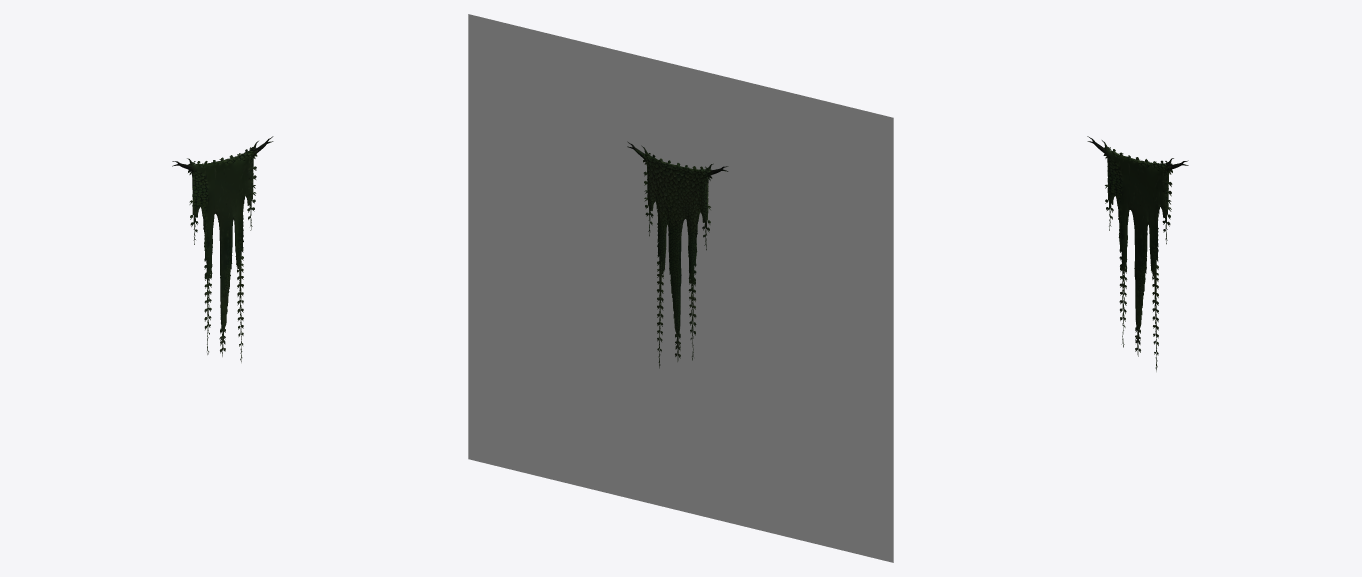
The model's file is wallvines2.glb.
3 views of the same model, side by side, from view 1: azimuth 30°, elevation 25°; view 2: azimuth 150°, elevation 25°; view 3: azimuth 330°, elevation 25° (orthographic).
Parts seen in each view (by area): view 1: node_0; view 2: Plane, node_0; view 3: node_0.
Boxes of the visible parts, x1=… form: node_0: x1=172, y1=136, x2=273, y2=362; Plane: x1=468, y1=14, x2=893, y2=562; node_0: x1=627, y1=141, x2=728, y2=368; node_0: x1=1087, y1=136, x2=1188, y2=371.
Bounding box in the file's own units: 2000 × 2000 × 38.4.
1 material, 1 textured.
